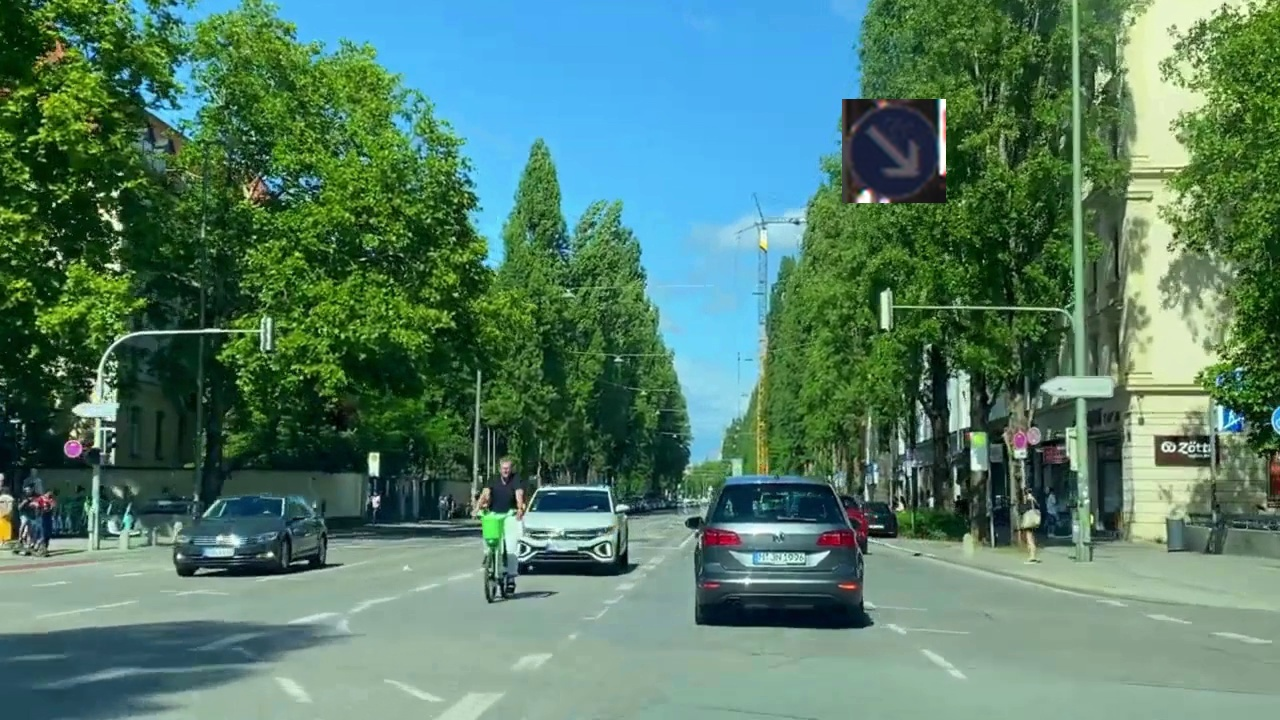Keep right: (842, 99, 946, 203)
